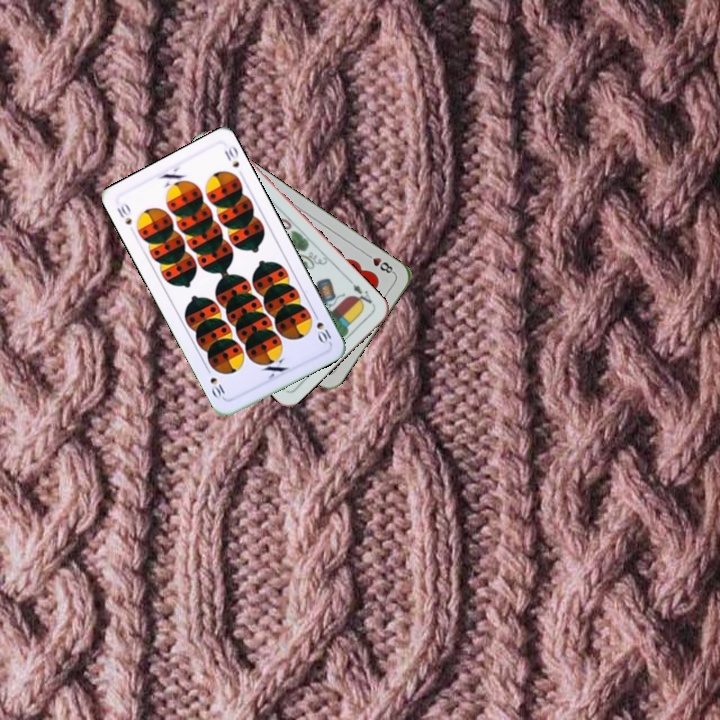EA: (345, 275, 377, 309)
H8: (361, 249, 397, 276)
S10: (309, 308, 334, 347), (113, 199, 134, 227)
